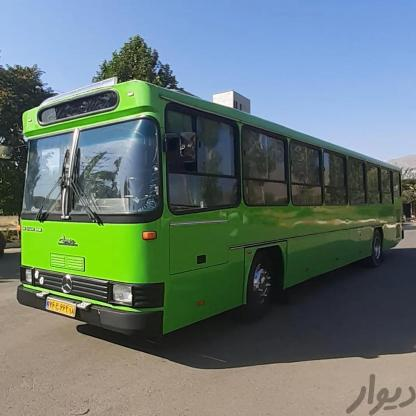Bus: (0, 65, 416, 344)
